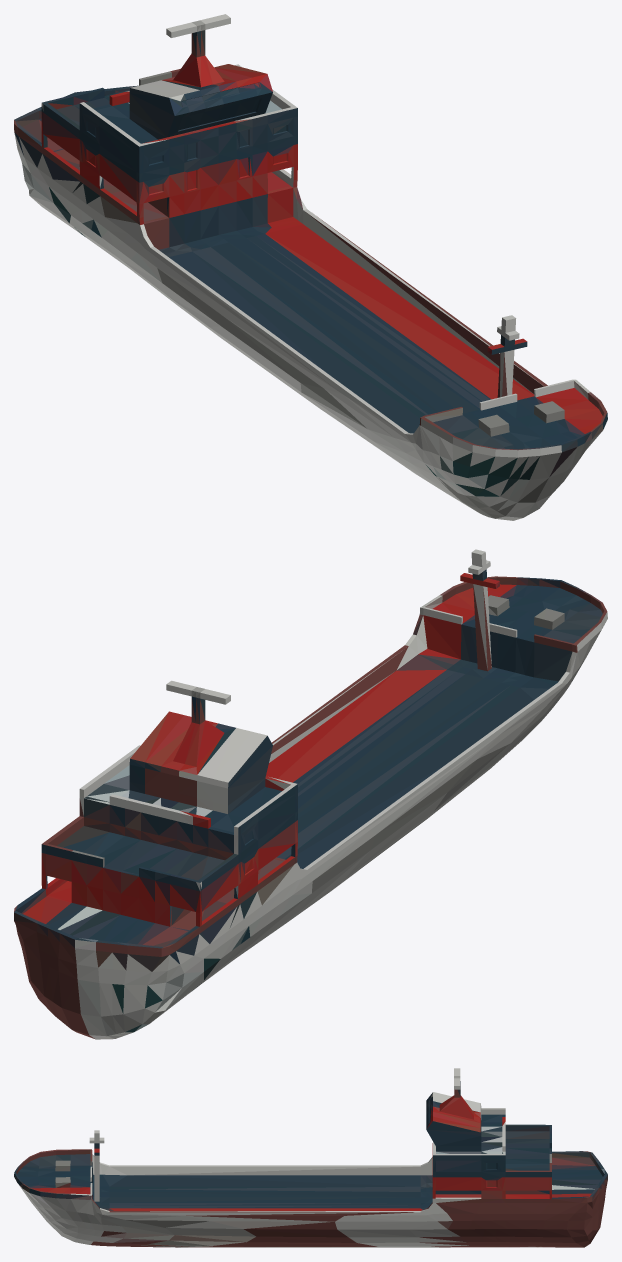
The model's file is staging_cargo_ship.obj.
3 views of the same model, one above another, from view 1: azimuth 30°, elevation 25°; view 2: azimuth 150°, elevation 25°; view 3: azimuth 270°, elevation 25° (orthographic). The views are drawn at different scales.
Bounding box in the file's own units: 5.83 × 9.67 × 31.
